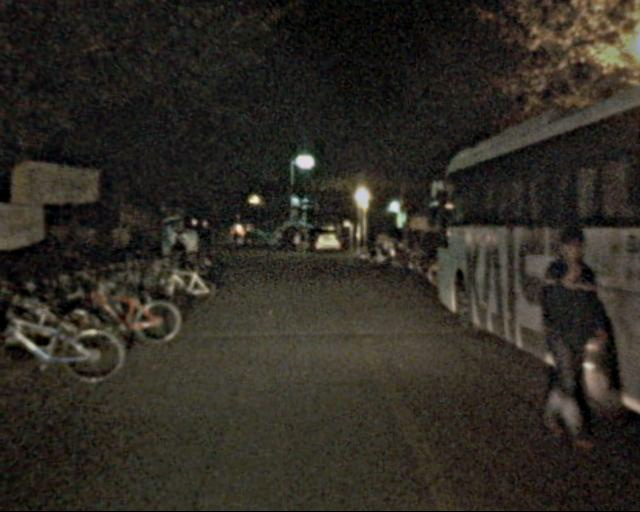person: (527, 218, 609, 456), (174, 221, 201, 288)
